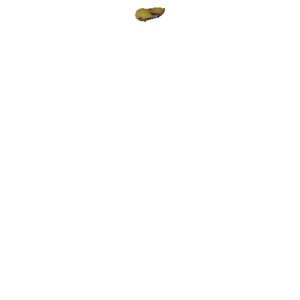banana: (131, 5, 167, 25)
